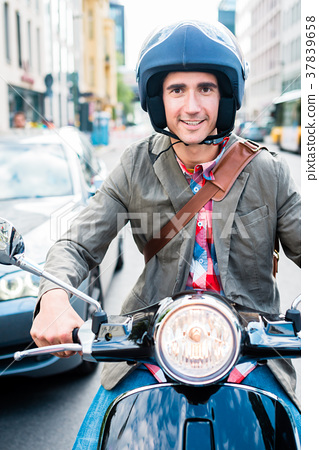helmet: (124, 25, 258, 107)
